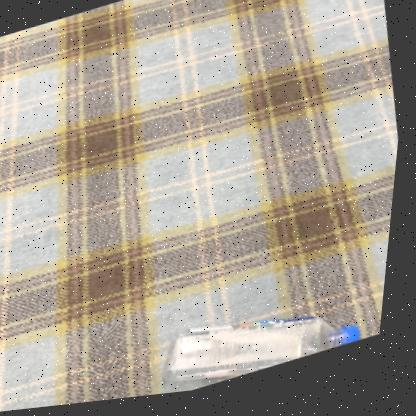Plastic: (170, 324, 368, 386)
